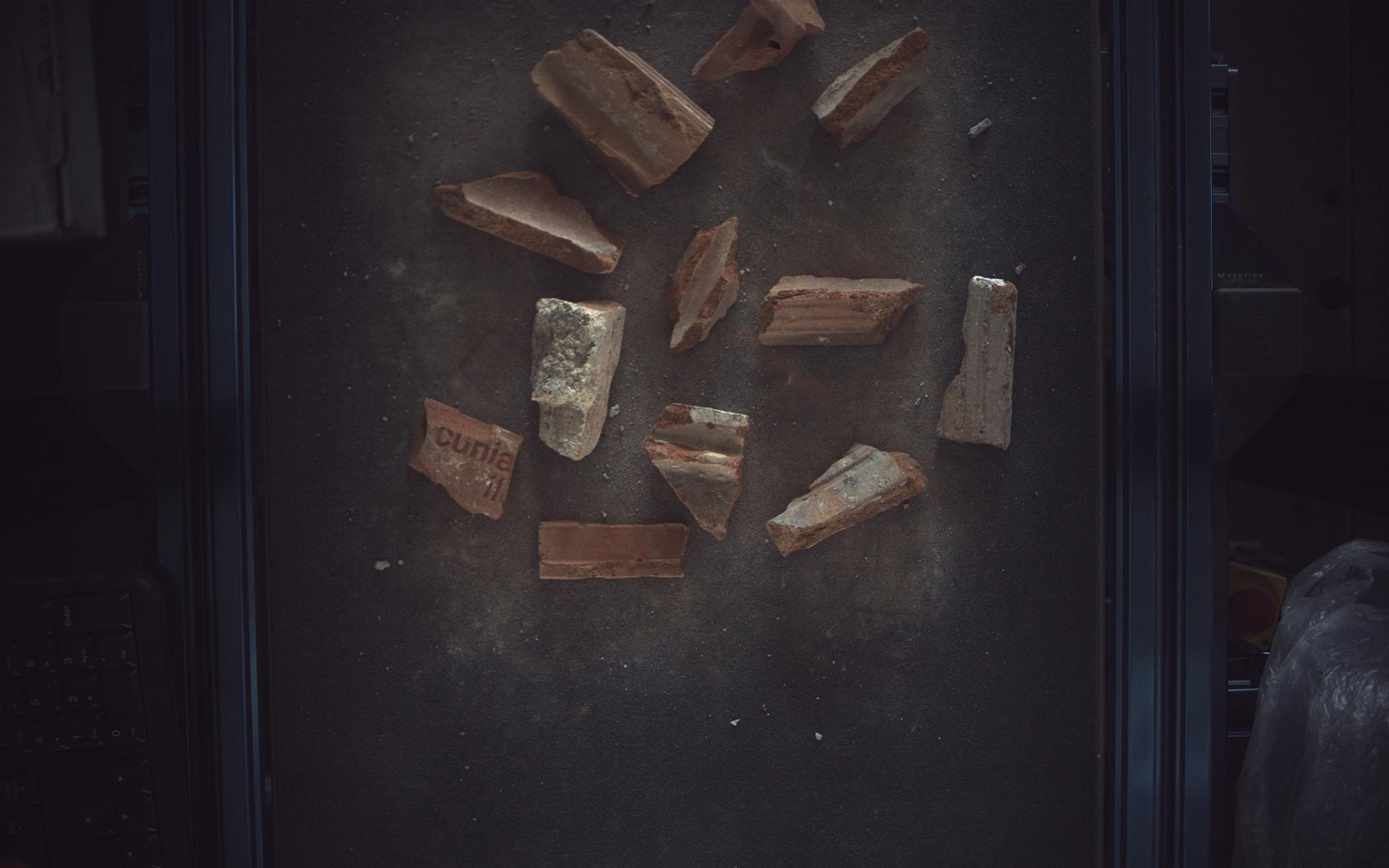brick: (532, 28, 715, 195), (434, 170, 625, 273), (768, 444, 928, 556), (532, 297, 626, 461), (815, 26, 938, 148), (646, 404, 750, 540), (939, 275, 1019, 449), (409, 398, 523, 520), (760, 276, 925, 346), (693, 1, 826, 80), (668, 216, 741, 352), (540, 522, 689, 580)
